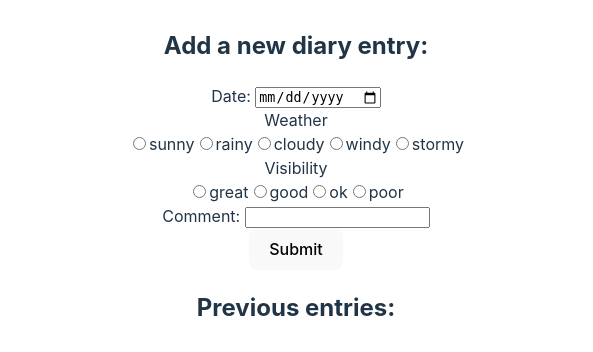
it: form input validation › proper date and weather w/o visibility throw error
Step 1. Type "2020-01-20" into the date field with test id "date" → [318, 98], box [255,87,381,108]
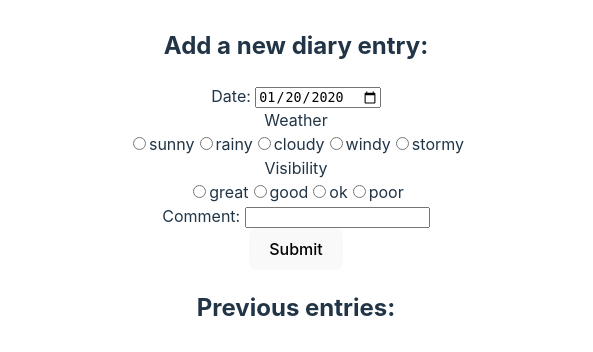
Step 2. Click the radio button with test id "rainy" → [206, 144], box [200,138,212,150]
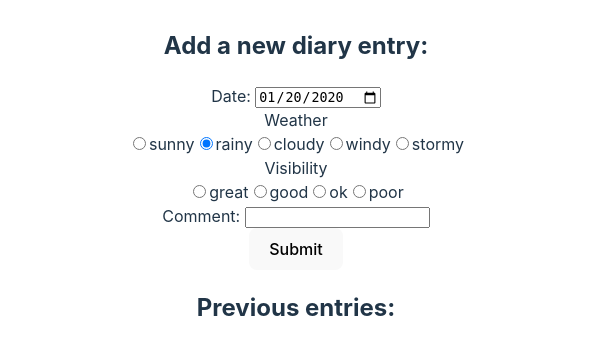
Step 3. Click the button → [296, 249], box [249,228,343,270]
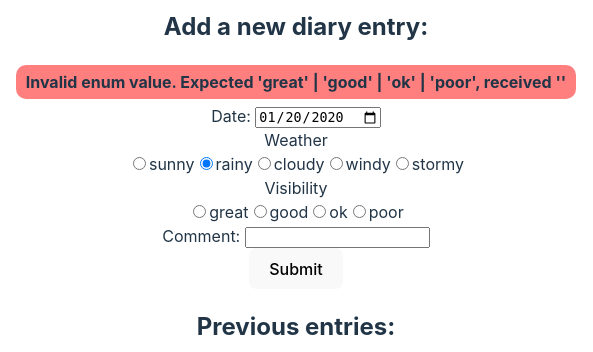
Expected: the text with test id "errmessage" is shown, [26,72,566,92]
